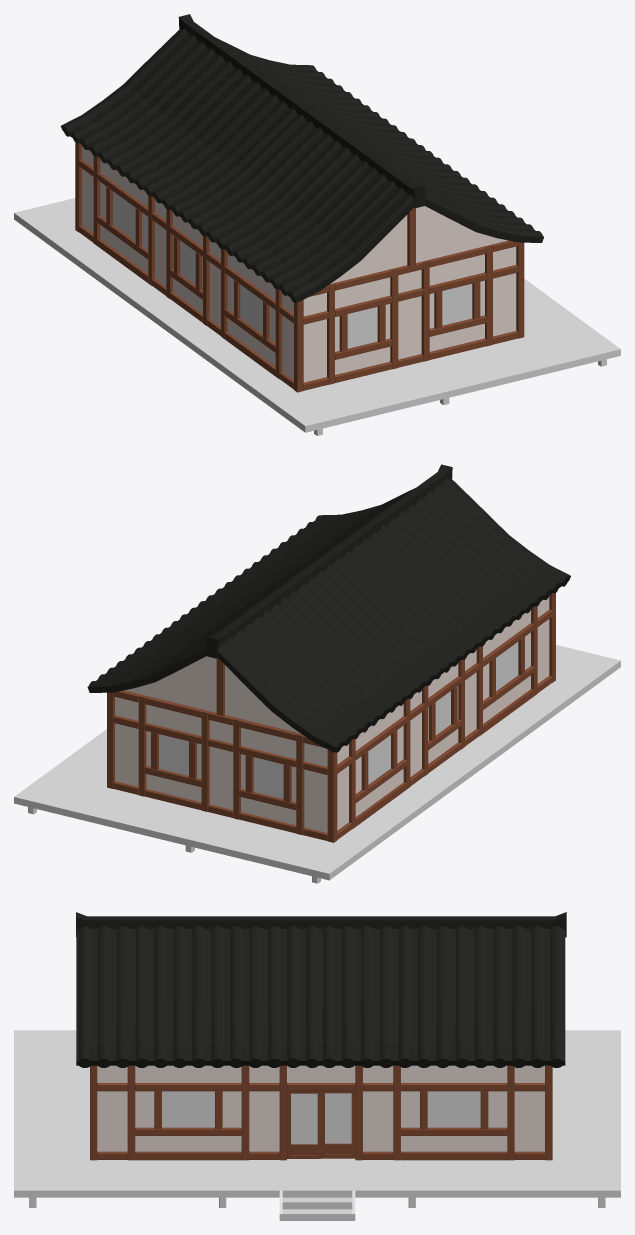
The model's file is House2_LOD0.fbx.
3 views of the same model, one above another, from view 1: azimuth 30°, elevation 25°; view 2: azimuth 150°, elevation 25°; view 3: azimuth 270°, elevation 25° (orthographic). The views are drawn at different scales.
Visible parts, largest first — view 1: Wall.252, Plane.014, Plane.012, Cube.351, Wall.195, Cube.005; view 2: Wall.252, Plane.012, Plane.014, Cube.351, Wall.195, Cube.005; view 3: Cube.351, Wall.252, Plane.012, Plane.014, Cube.005, Cube.283, Cube.284, Cube.251.
Boxes of the visible parts, x1,y1,x2,y2 form: Wall.252: [75, 142, 524, 392]; Plane.014: [178, 114, 543, 302]; Plane.012: [60, 29, 426, 216]; Cube.351: [14, 198, 620, 432]; Wall.195: [188, 32, 507, 283]; Cube.005: [178, 14, 425, 208]; Wall.252: [107, 593, 555, 842]; Plane.012: [87, 564, 453, 752]; Plane.014: [205, 478, 570, 666]; Cube.351: [14, 644, 620, 880]; Wall.195: [125, 481, 444, 732]; Cube.005: [205, 464, 452, 658]; Cube.351: [14, 1030, 620, 1197]; Wall.252: [90, 1065, 552, 1160]; Plane.012: [320, 926, 565, 1067]; Plane.014: [76, 926, 320, 1067]; Cube.005: [76, 912, 566, 937]; Cube.283: [287, 1091, 321, 1158]; Cube.284: [321, 1091, 355, 1158]; Cube.251: [279, 1190, 355, 1220].
Size of the model in its own units: 1060 by 609 by 1600.
